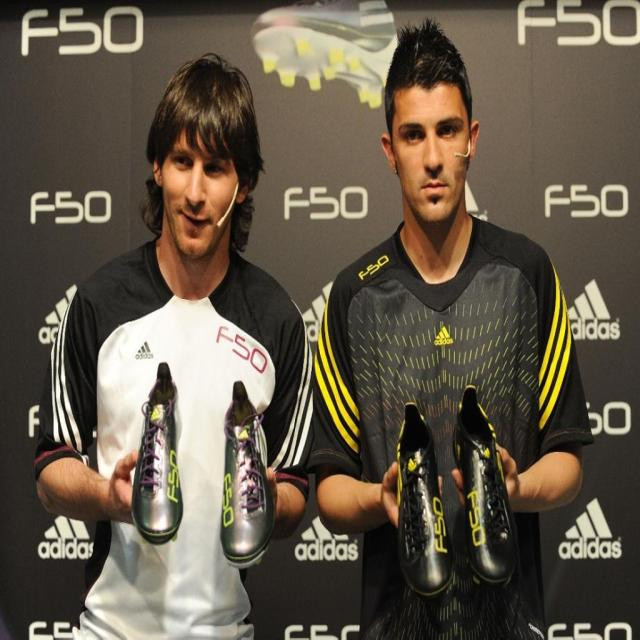Face: (383, 68, 476, 233), (157, 102, 244, 268)
